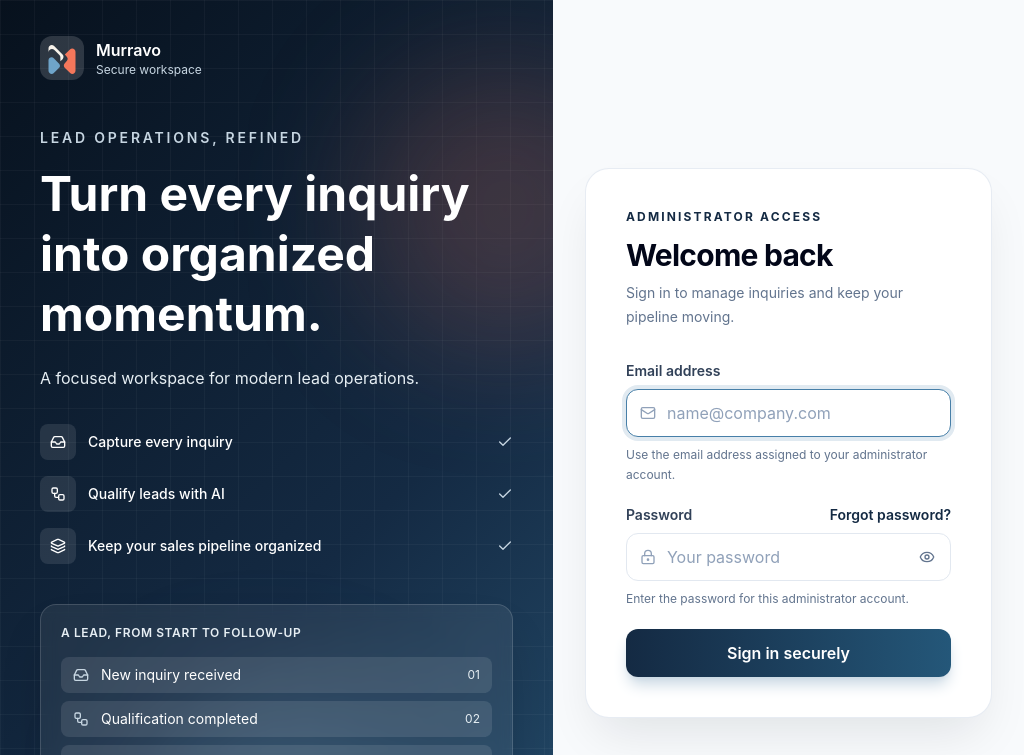
Test: real authentication provider regression › keeps bootstrap and branding failures out of login-submission feedback
Expected: the text "Invalid email or password." is not shown
In the field labelled "Email address": (788, 413) [626,389,951,437], type "admin@example.invalid"
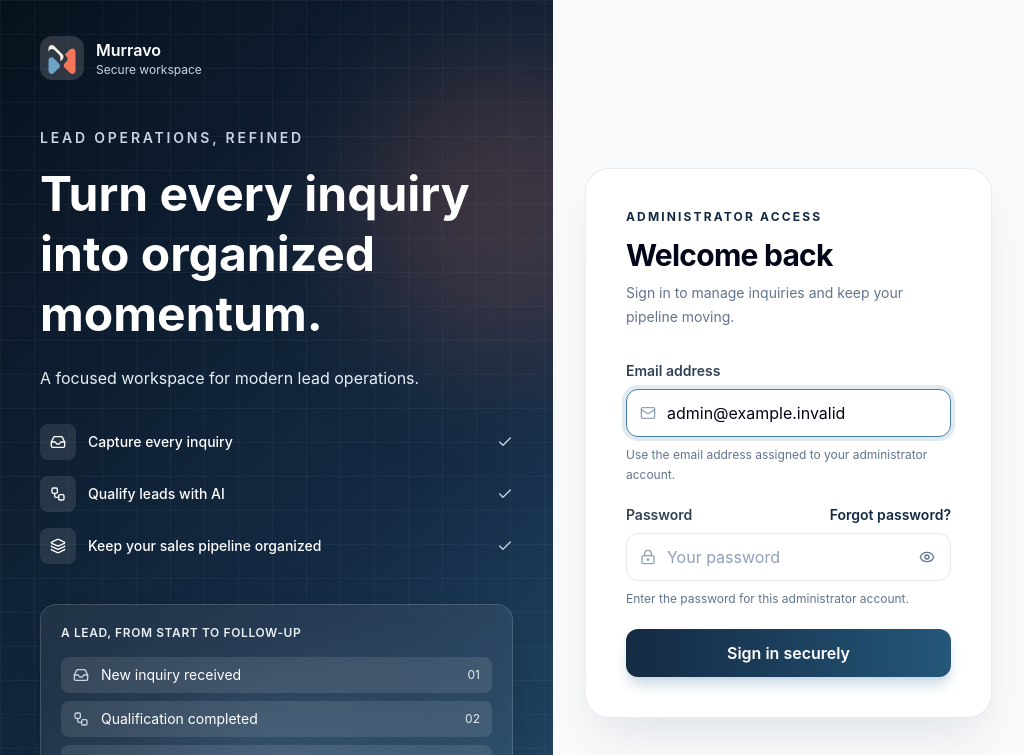
In the password field labelled "Password": (788, 557) [626,533,951,581], type "Synthetic-password-42!"
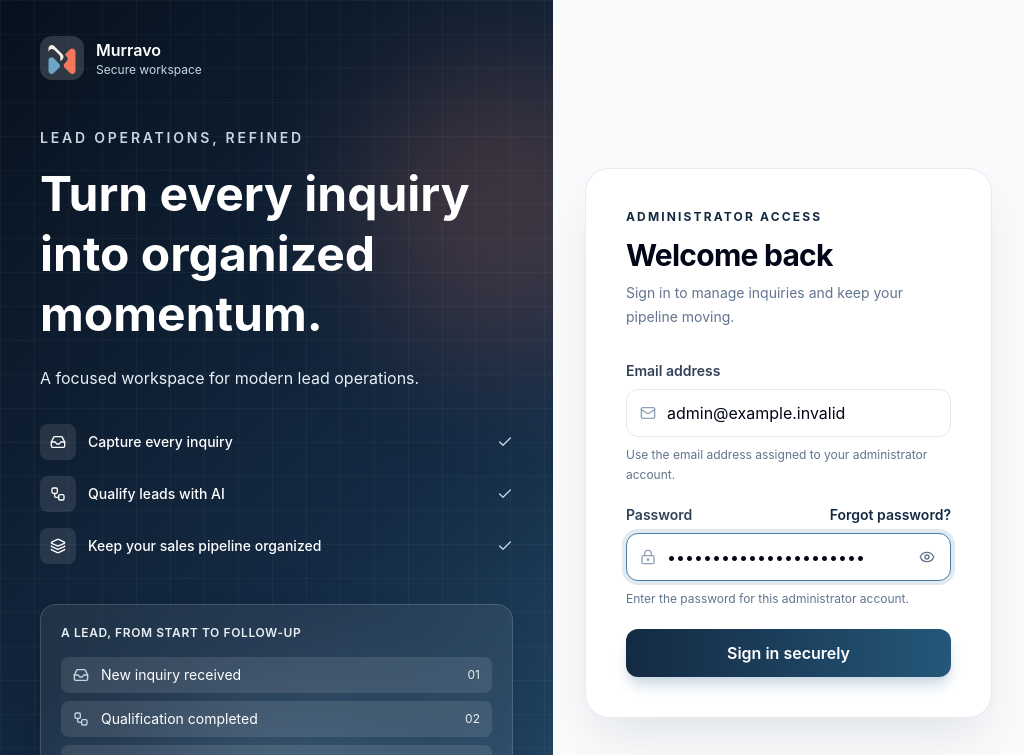
Click the button "Sign in securely": (788, 653) [626,629,951,677]
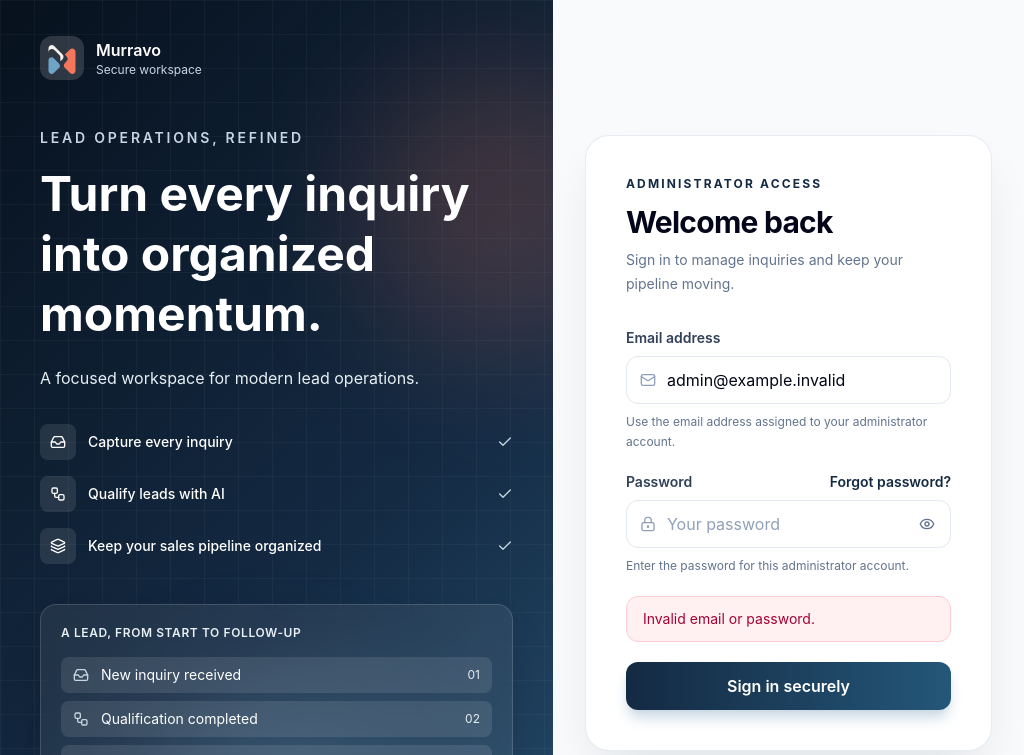
Result: the message reads "Invalid email or password." at [643,610,815,627]
